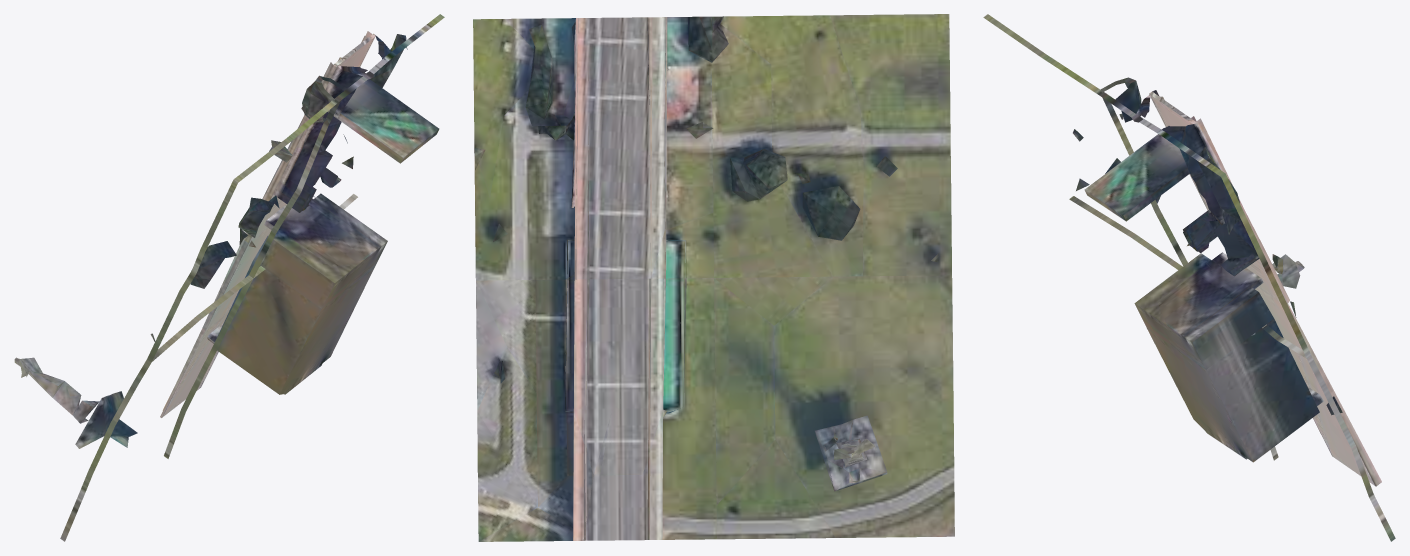
3 renders of one model, left to right at view 1: azimuth 30°, elevation 25°; view 2: azimuth 150°, elevation 25°; view 3: azimuth 270°, elevation 25°, orthographic. The views are drawn at different scales.
Size of the model in its own units: 151 by 145 by 127.
Materials: 2 (2 with a texture image).
